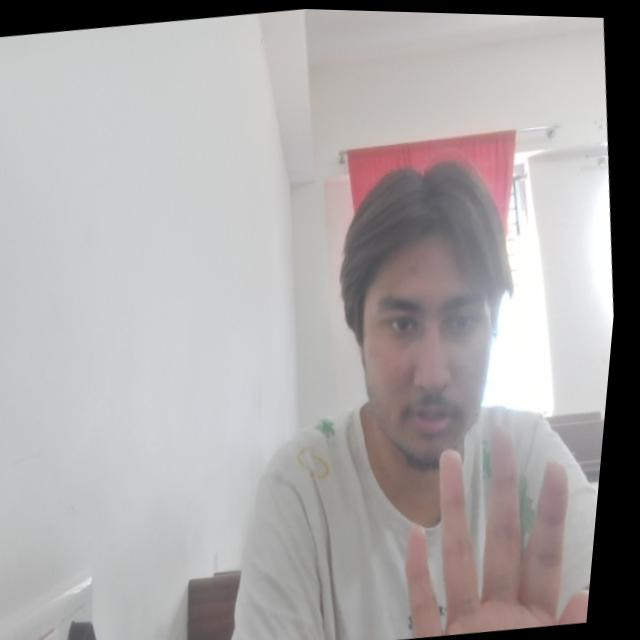hello: (392, 402, 613, 640)
